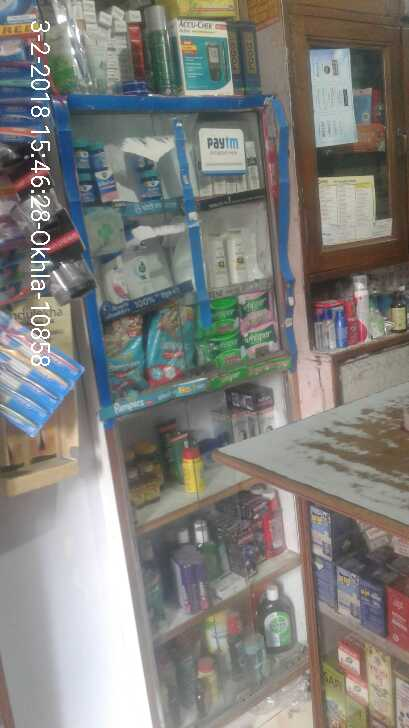oralcare: (1, 306, 82, 452), (1, 1, 40, 136)
vicks: (73, 134, 177, 204)
